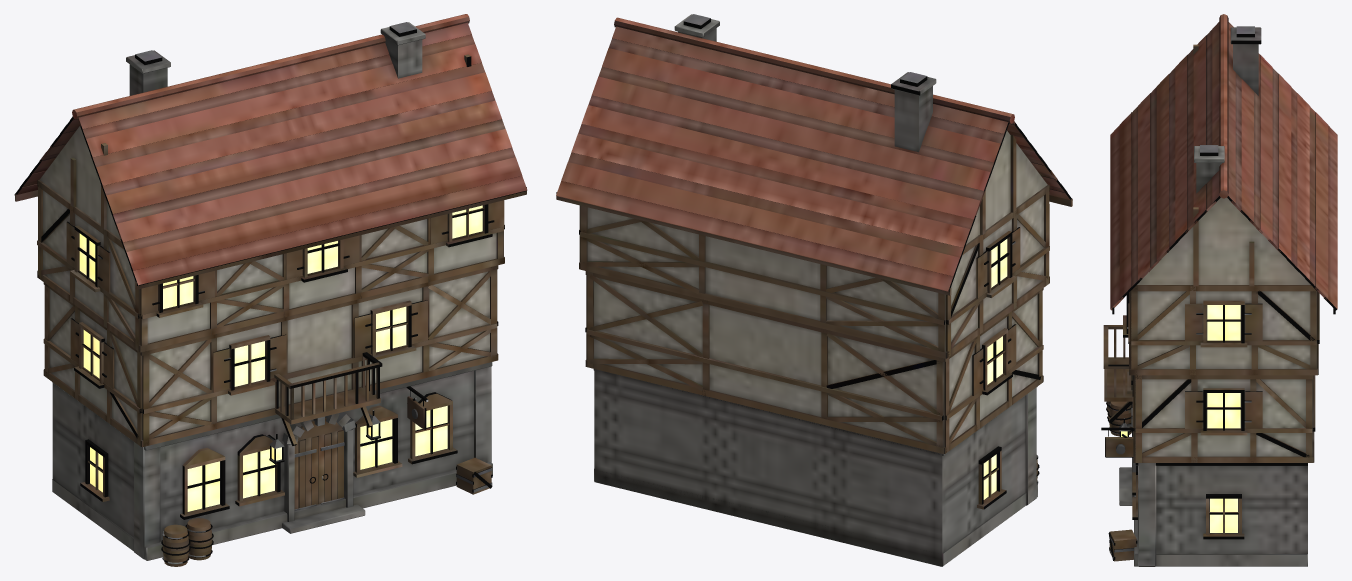
The model's file is taverna.glb.
3 views of the same model, side by side, from view 1: azimuth 30°, elevation 25°; view 2: azimuth 150°, elevation 25°; view 3: azimuth 270°, elevation 25° (orthographic). The views are drawn at different scales.
Visible parts, largest first — view 1: taverna; view 2: taverna; view 3: taverna.
Boxes of the visible parts, x1,y1,x2,y2 form: taverna: (14, 14, 527, 566); taverna: (556, 14, 1072, 566); taverna: (1101, 14, 1337, 566).
Size of the model in its own units: 11.38 by 12.34 by 6.45.
Materials: 1 (1 with a texture image).
